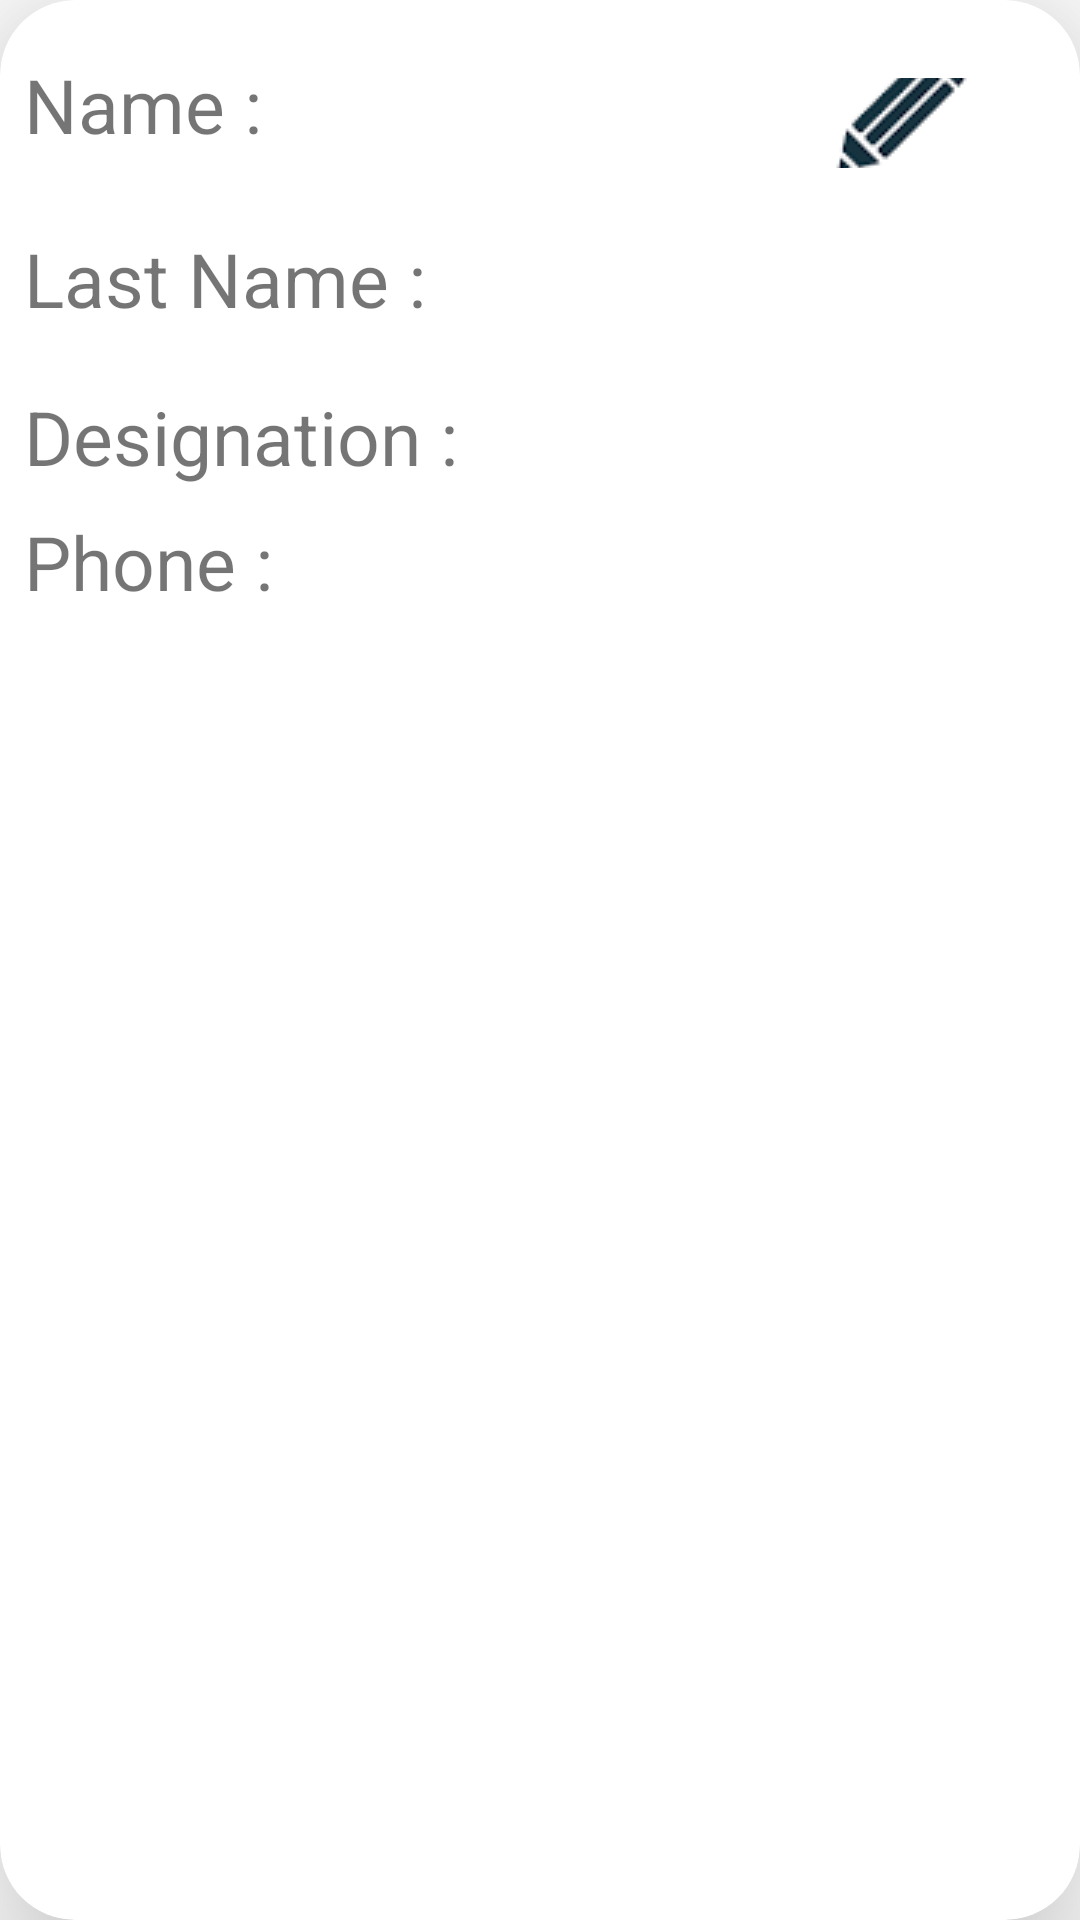

Where to tap for icons on this 1080*1920 app screen, as point (x, y):
updatebtn: point (902, 123)
